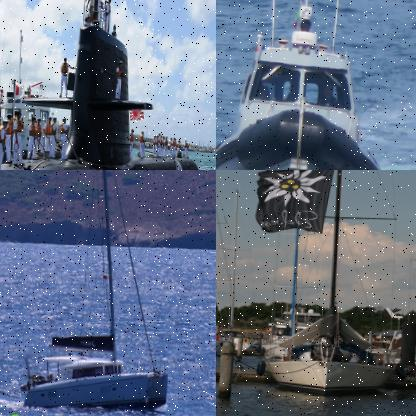Patrol Boat: (216, 0, 394, 169)
Sails Boat: (18, 170, 180, 412), (254, 170, 408, 397), (388, 170, 415, 378), (216, 170, 231, 360)
Submarine: (0, 0, 215, 169)
Tugboat: (0, 23, 63, 169)
